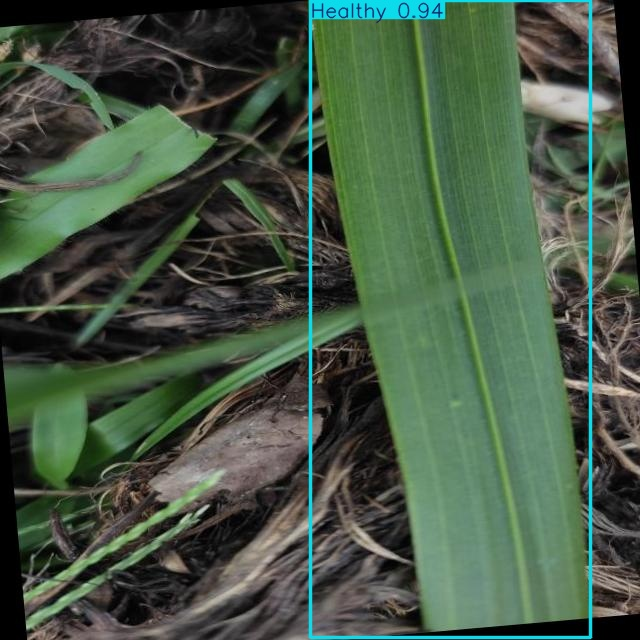Healthy: (311, 0, 590, 637)
